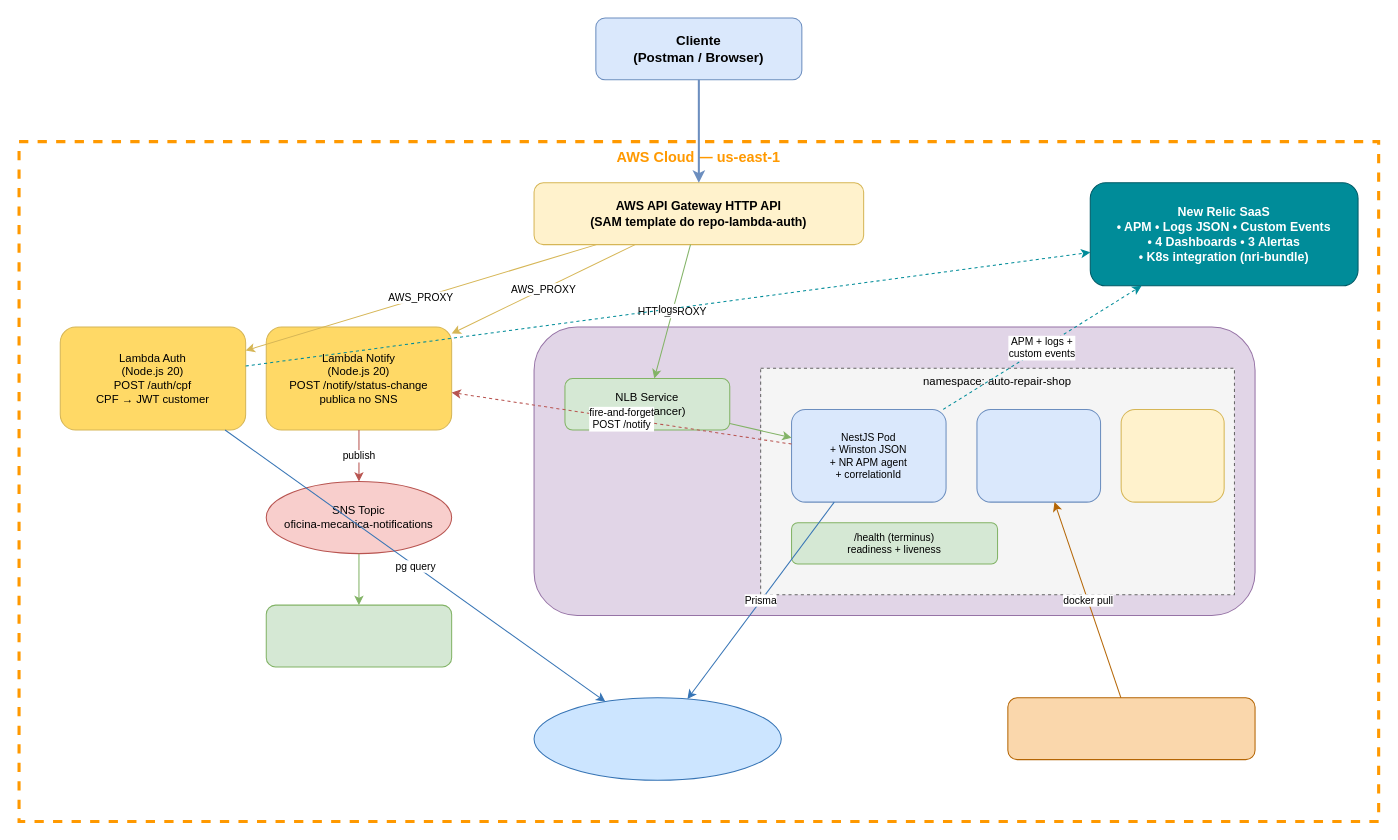
Image size: 1398x840. Some labels were removed from this diagram. The box of each missing label's shape, as (x1, y1, x2, y2) in pixels:
AWS RDS PostgreSQL 16 db.t3.micro Terraform repo-infra-db: (533, 697, 781, 780)
ECR Repository oficina-mecanica-eks-app: (1007, 697, 1255, 760)
EKS Cluster — oficina-mecanica-eks (Terraform repo-infra-k8s): (533, 326, 1255, 615)
Email Subscription jairnunes3@gmail.com: (265, 604, 452, 667)
HPA min 2 max 10 CPU 70% / MEM 80%: (1120, 408, 1224, 502)
NestJS Pod (replica): (976, 408, 1101, 502)
